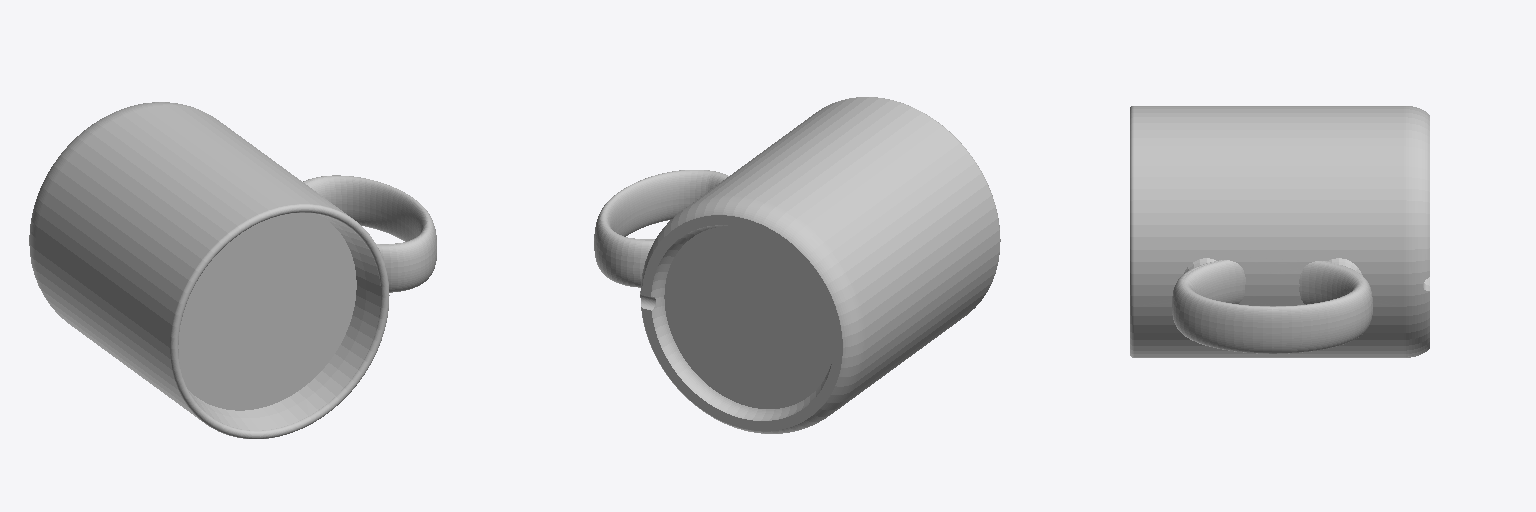
The model's file is coffee-cup.obj.
3 views of the same model, side by side, from view 1: azimuth 30°, elevation 25°; view 2: azimuth 150°, elevation 25°; view 3: azimuth 270°, elevation 25° (orthographic).
Parts seen in each view (by area): view 1: obj_0, obj_1; view 2: obj_0; view 3: obj_0.
Boxes of the visible parts, <box> form: obj_0: <box>29,102,436,438</box>; obj_1: <box>178,213,356,410</box>; obj_0: <box>594,97,1000,433</box>; obj_0: <box>1130,106,1429,357</box>.
Bounding box in the file's own units: 23.96 × 16.5 × 19.64.